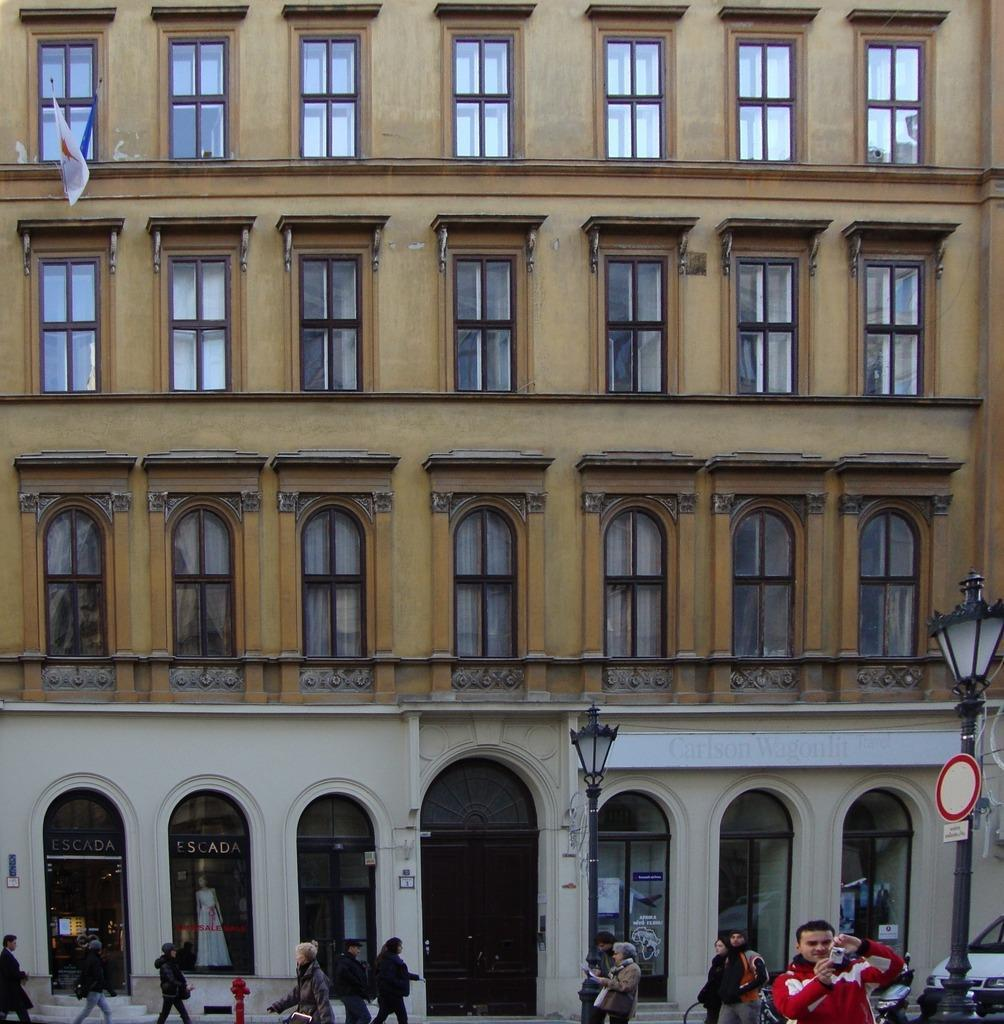window: (42, 506, 111, 659), (171, 505, 240, 658), (299, 506, 368, 659), (453, 504, 522, 657), (600, 507, 669, 659), (733, 507, 802, 659), (860, 505, 924, 657), (864, 259, 925, 397), (739, 257, 800, 395), (456, 254, 517, 392), (302, 254, 363, 392), (169, 256, 230, 394), (608, 257, 669, 394), (40, 258, 101, 395), (39, 40, 100, 163), (300, 36, 361, 159), (170, 37, 231, 160), (452, 36, 513, 159), (603, 37, 664, 160), (867, 42, 928, 165), (737, 40, 797, 163)
